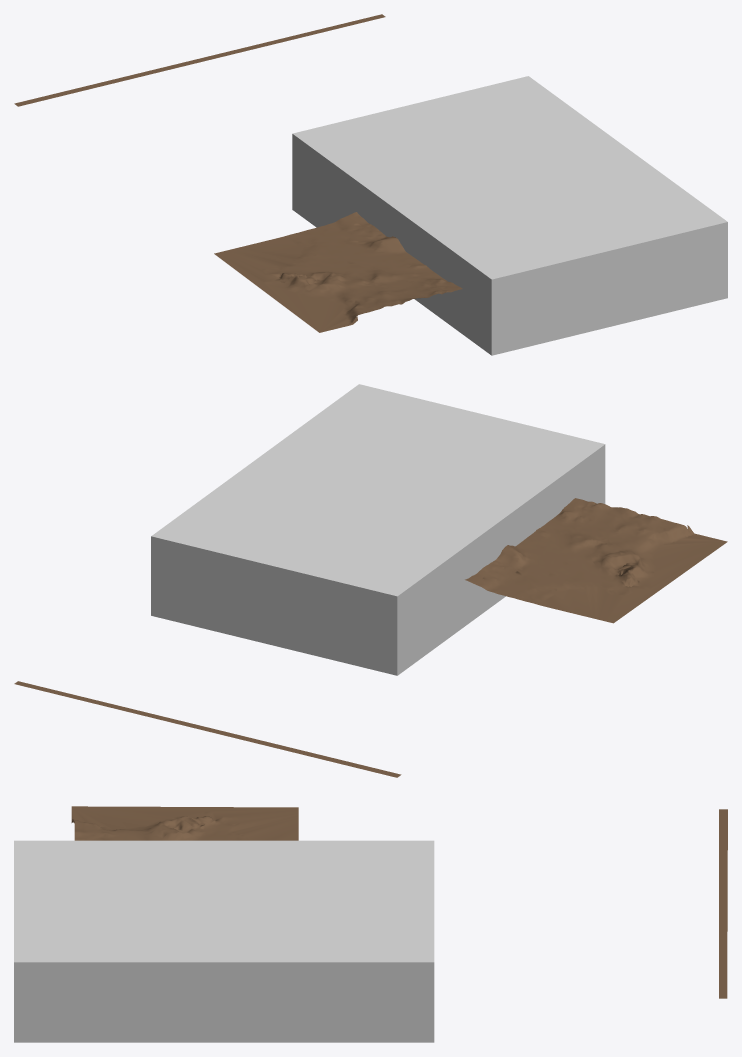
File: morro_de_arica_v3_opt.fbx
3 renders of one model, top to bottom at view 1: azimuth 30°, elevation 25°; view 2: azimuth 150°, elevation 25°; view 3: azimuth 270°, elevation 25°, orthographic. The views are drawn at different scales.
Visible parts, largest first — view 1: Cube.002, Cortado__m______scara__1; view 2: Cube.002, Cortado__m______scara__1; view 3: Cube.002, Cortado__m______scara__1.
Boxes of the visible parts, <box> form: Cube.002: <box>292,76,727,355</box>; Cortado__m______scara__1: <box>14,14,462,332</box>; Cube.002: <box>151,384,605,675</box>; Cortado__m______scara__1: <box>14,498,727,777</box>; Cube.002: <box>14,840,434,1042</box>; Cortado__m______scara__1: <box>71,806,727,998</box>.
Bounding box in the file's own units: 281845 × 53849 × 433921.
